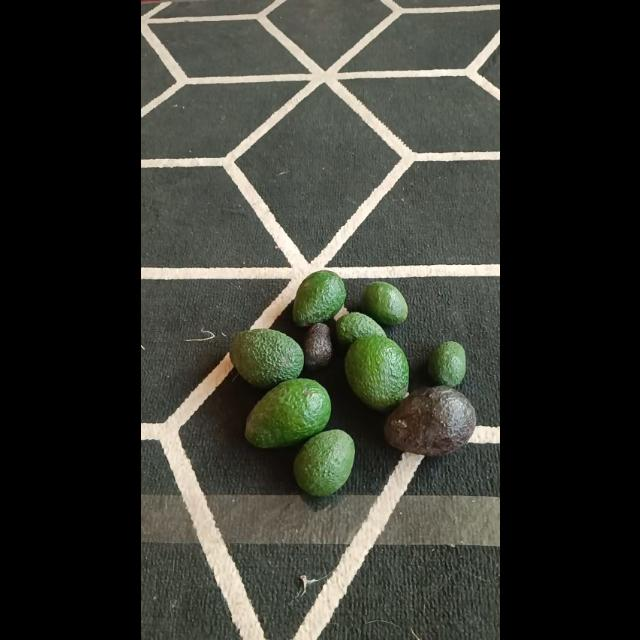Primera: (384, 386, 476, 454), (244, 378, 330, 448), (342, 334, 410, 408), (228, 328, 304, 388)
Segunda: (292, 428, 356, 496), (291, 270, 345, 326)
Tercera: (360, 280, 408, 326), (426, 340, 466, 388), (334, 310, 384, 346), (302, 322, 332, 371)
